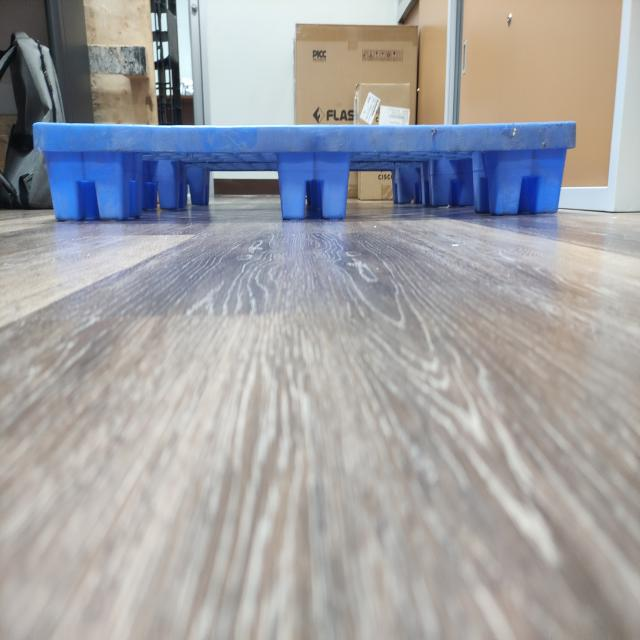block: (43, 153, 126, 223), (279, 156, 355, 222), (496, 148, 564, 217)
front: (32, 120, 577, 222)
